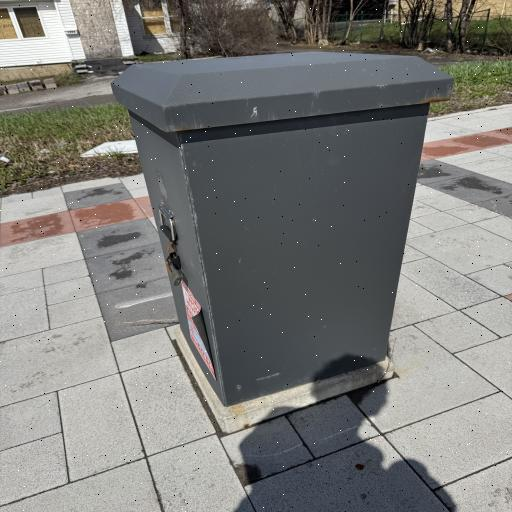Electrical Box: (106, 52, 454, 401)
